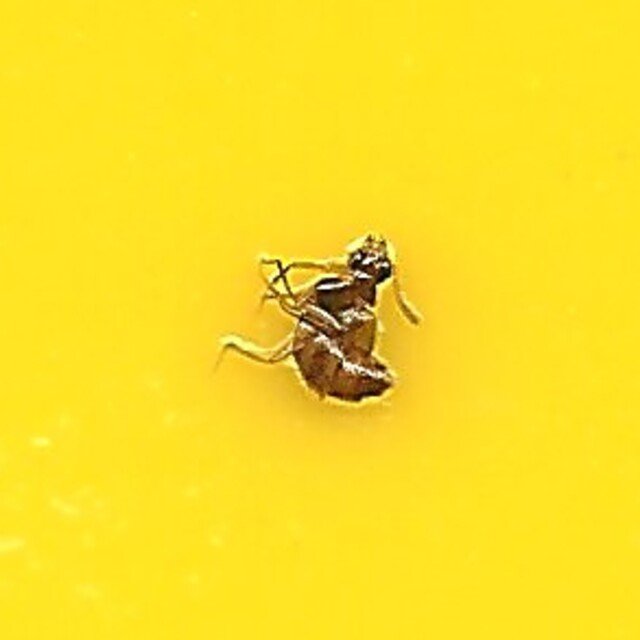Coleoptera: (218, 228, 422, 412)
